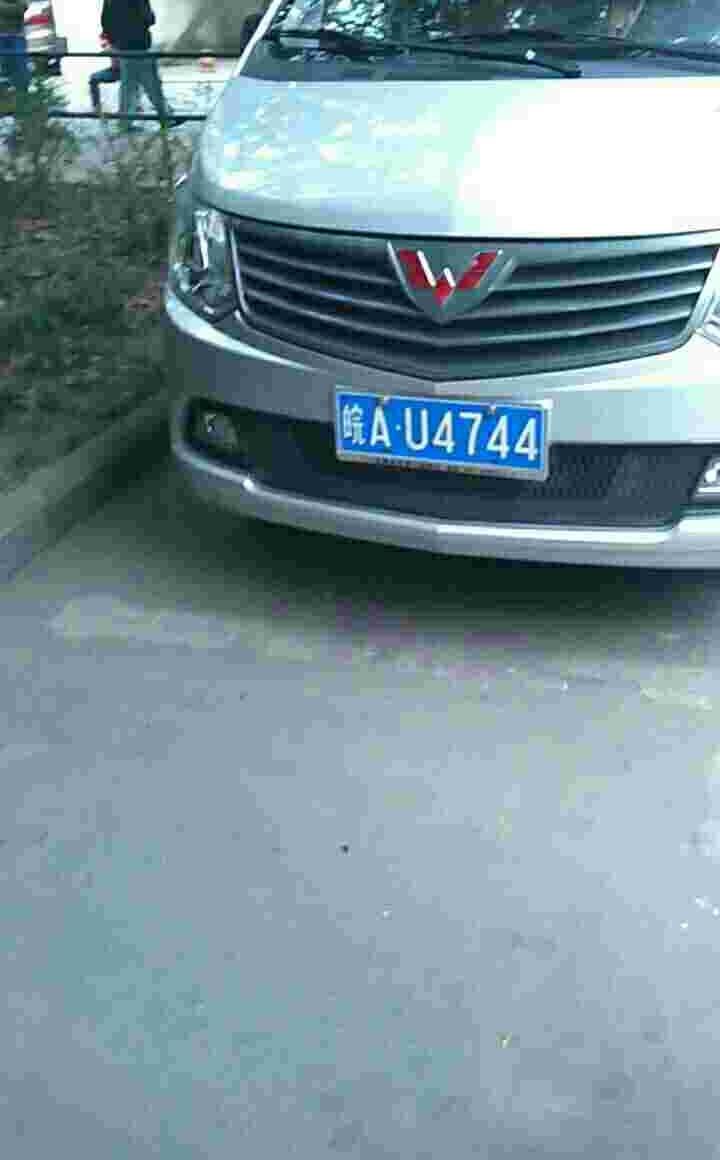license_plate: (333, 390, 550, 476)
